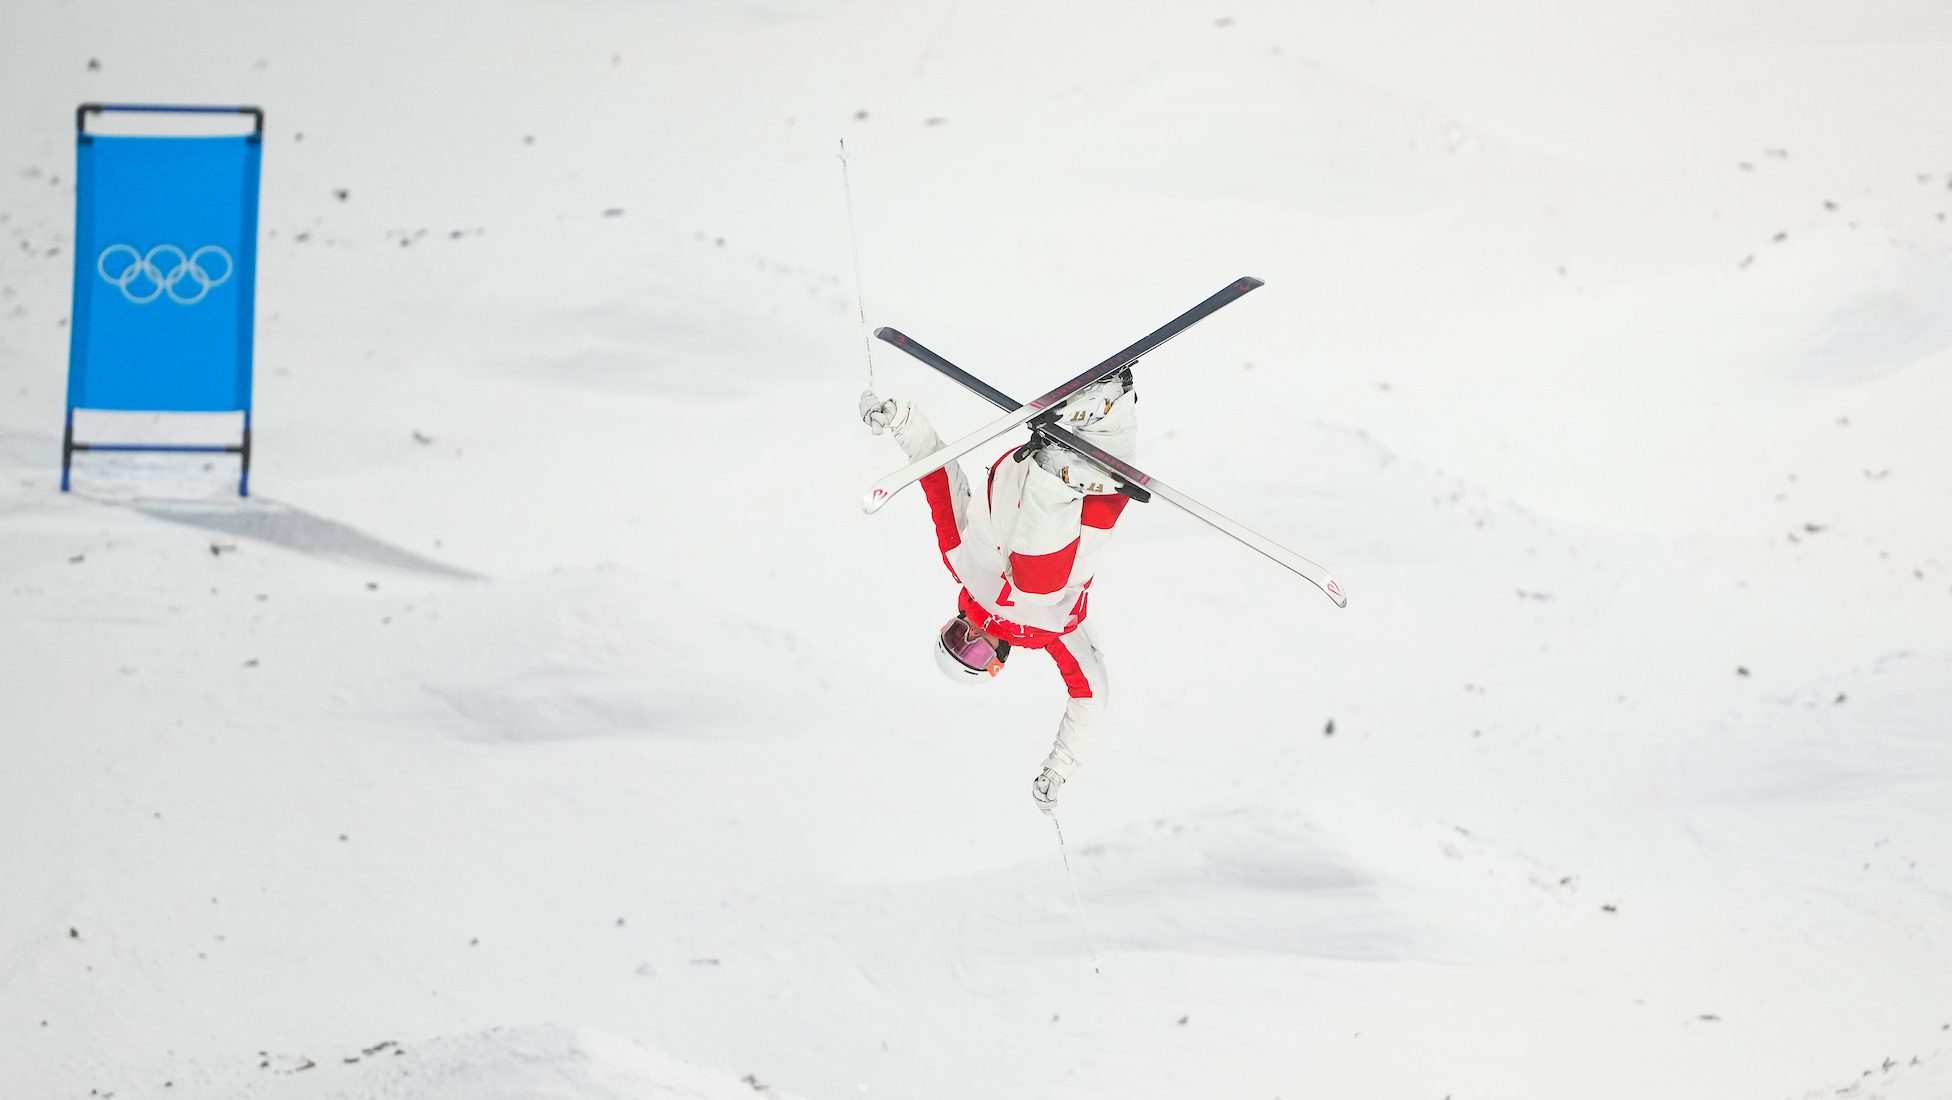skier: (823, 121, 1388, 960)
